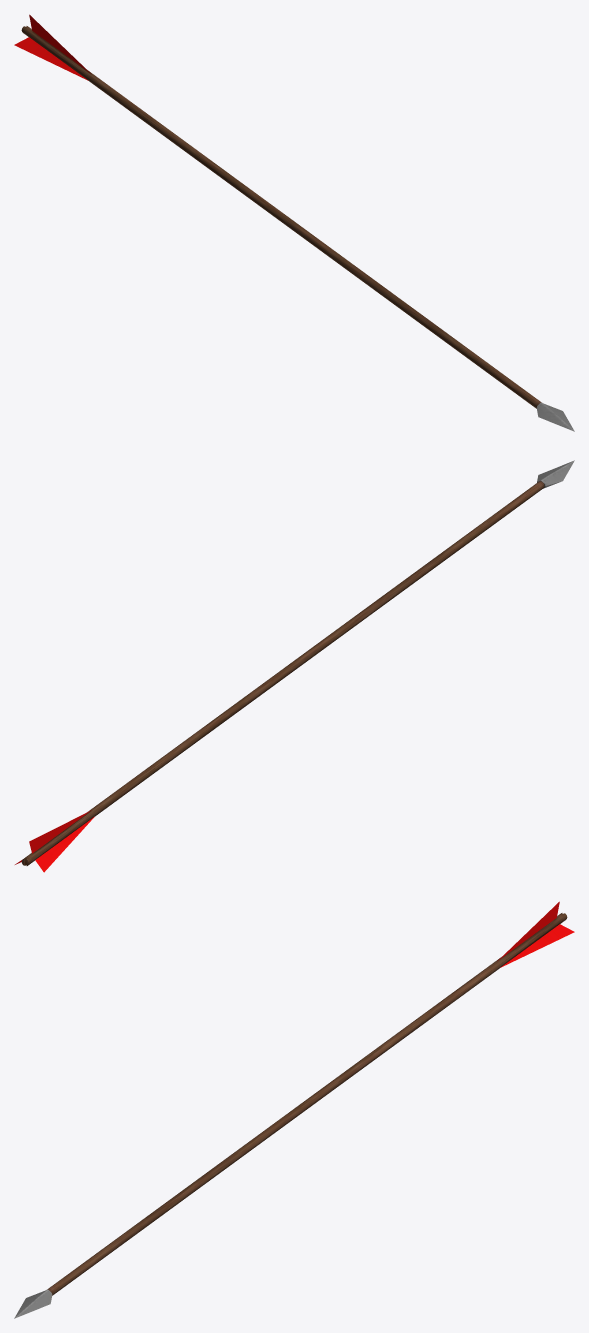
The model's file is arrow.glb.
The picture shows the model from 3 angles, top to bottom: view 1: azimuth 30°, elevation 25°; view 2: azimuth 150°, elevation 25°; view 3: azimuth 330°, elevation 25°; orthographic projection.
Visible parts, largest first — view 1: Arrow_32_inch_Arrows_0; view 2: Arrow_32_inch_Arrows_0; view 3: Arrow_32_inch_Arrows_0.
Boxes of the visible parts, left/top/right/bottom form: Arrow_32_inch_Arrows_0: left=14, top=14, right=574, bottom=431; Arrow_32_inch_Arrows_0: left=15, top=460, right=574, bottom=872; Arrow_32_inch_Arrows_0: left=14, top=901, right=574, bottom=1318.
Size of the model in its own units: 0.0274 by 0.0238 by 0.8664.
Materials: 1 (1 with a texture image).
